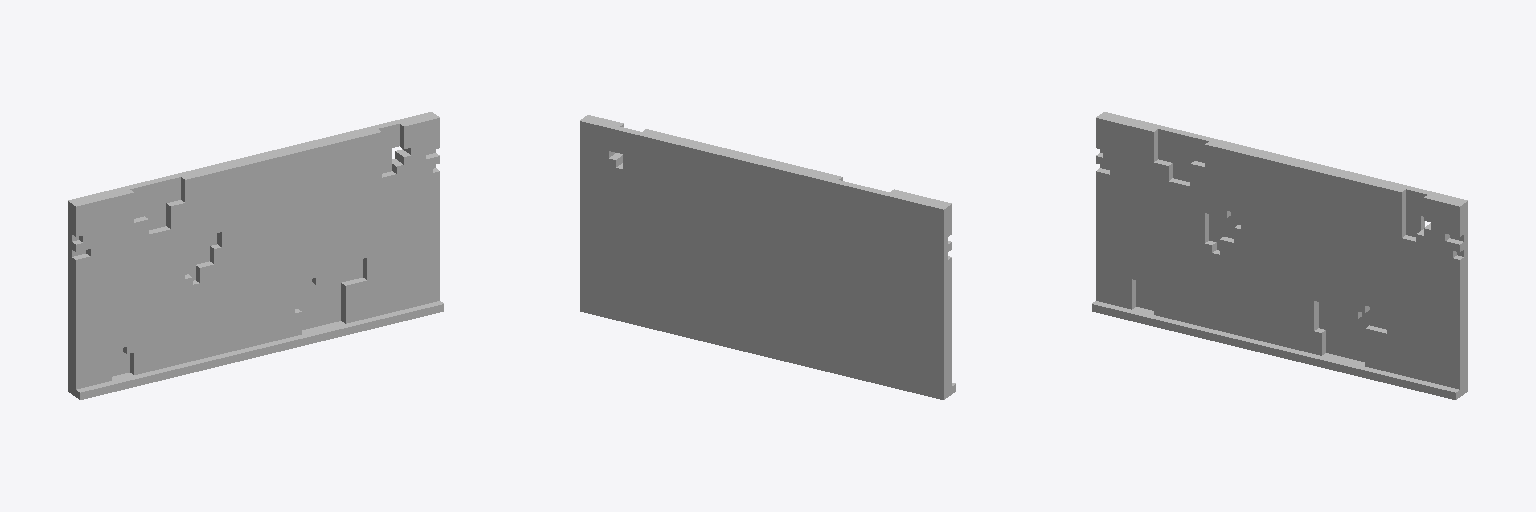
The model's file is Cellblock way - Copy.obj.
3 views of the same model, side by side, from view 1: azimuth 30°, elevation 25°; view 2: azimuth 150°, elevation 25°; view 3: azimuth 330°, elevation 25° (orthographic).
Bounding box in the file's own units: 50 × 25 × 3.